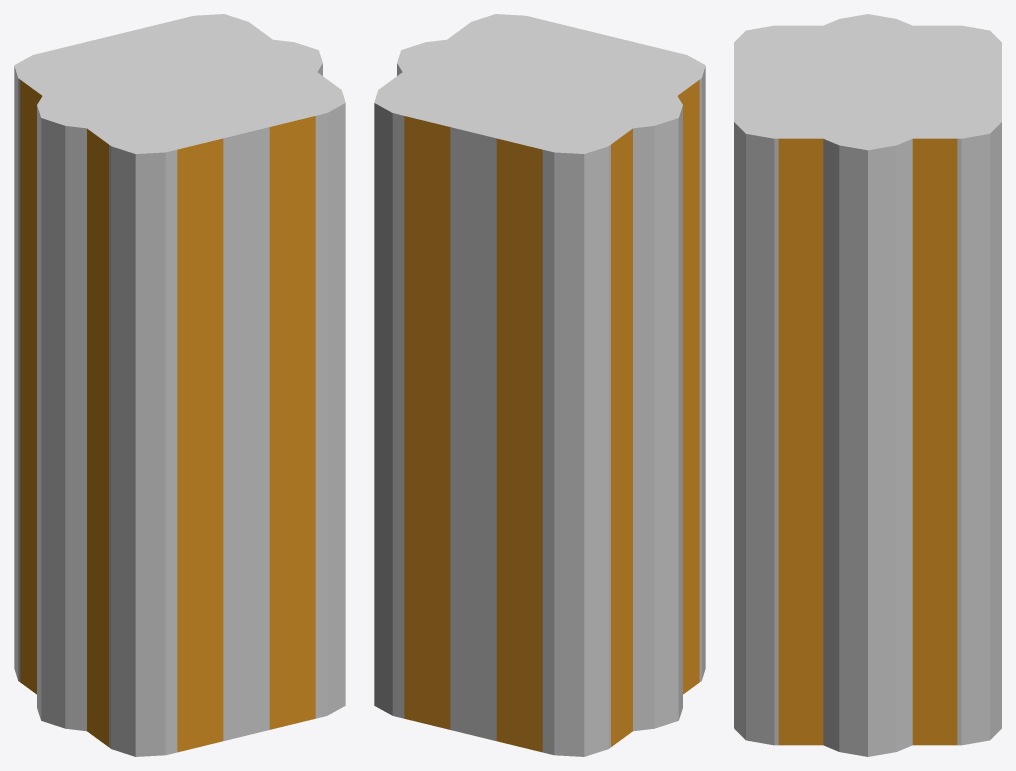
Rendered from Buildings-base4-variant.fbx.
The picture shows the model from 3 angles, left to right: view 1: azimuth 30°, elevation 25°; view 2: azimuth 150°, elevation 25°; view 3: azimuth 270°, elevation 25°; orthographic projection.
Visible parts, largest first — view 1: BuildingBase4; view 2: BuildingBase4; view 3: BuildingBase4.
Part boxes in pixels (box(x1,y1,x2,y2)): BuildingBase4: box(14, 14, 345, 756); BuildingBase4: box(374, 14, 705, 756); BuildingBase4: box(734, 14, 1001, 756).
Bounding box in the file's own units: 24.1 × 50 × 20.
